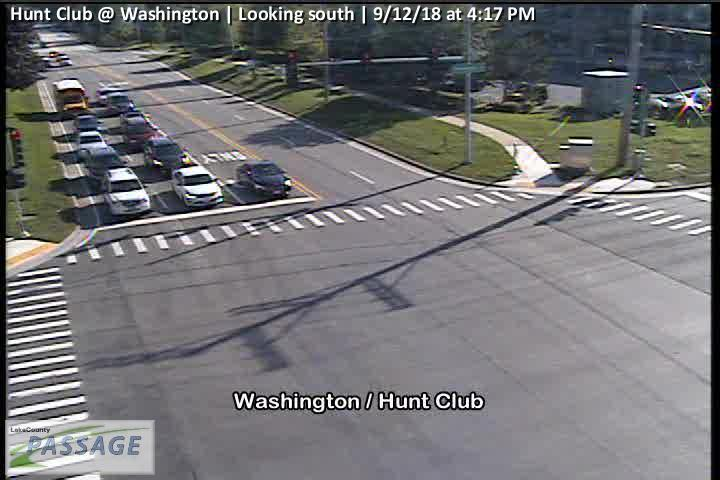Bus: (55, 78, 88, 113)
SUV: (102, 168, 150, 216)
Sedan: (171, 167, 225, 208), (236, 161, 294, 198), (143, 137, 190, 175), (84, 147, 121, 184), (77, 132, 107, 157), (74, 114, 104, 133)
